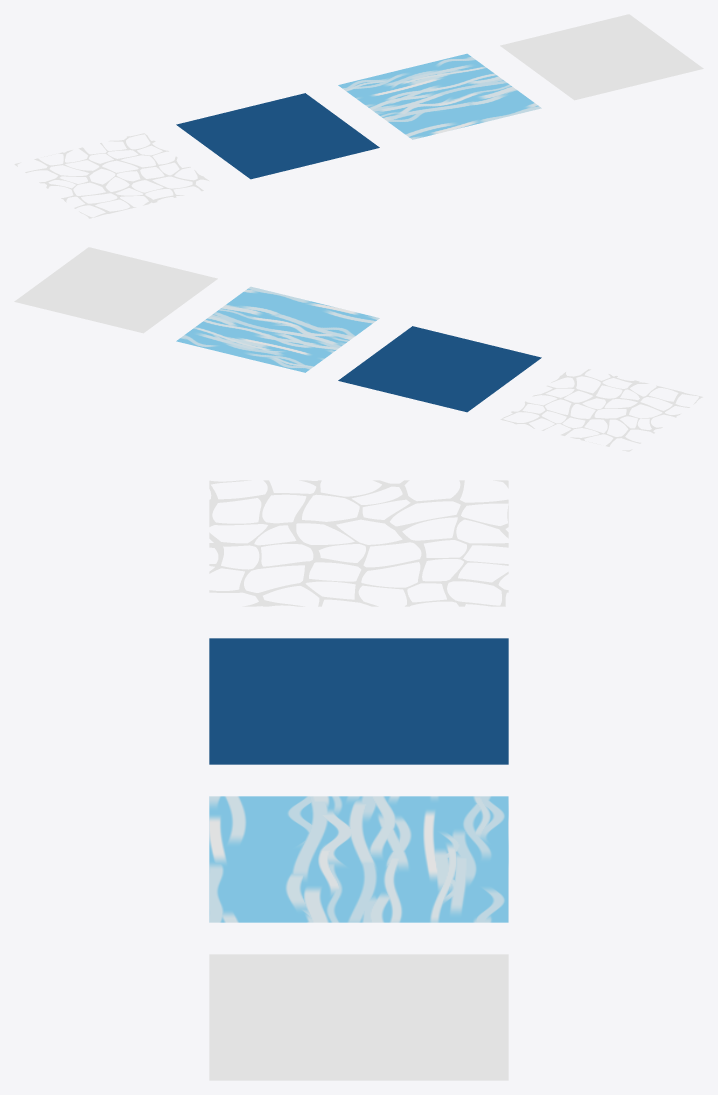
Rendered from texturas_agua.fbx.
3 views of the same model, one above another, from view 1: azimuth 30°, elevation 25°; view 2: azimuth 150°, elevation 25°; view 3: azimuth 270°, elevation 25° (orthographic). The views are drawn at different scales.
Parts seen in each view (by area): view 1: TX__agua_sombra, TX__cachoeira, TX__espuma, TX__agua_linhas; view 2: TX__agua_sombra, TX__cachoeira, TX__espuma, TX__agua_linhas; view 3: TX__agua_sombra, TX__cachoeira, TX__espuma, TX__agua_linhas.
Boxes of the visible parts, x1,y1,x2,y2 form: TX__agua_sombra: (176,93,379,179); TX__cachoeira: (338,53,541,139); TX__espuma: (500,14,703,100); TX__agua_linhas: (14,133,209,218); TX__agua_sombra: (338,326,541,412); TX__cachoeira: (176,286,379,372); TX__espuma: (14,247,217,333); TX__agua_linhas: (500,369,702,451); TX__agua_sombra: (209,638,508,764); TX__cachoeira: (209,796,508,922); TX__espuma: (209,954,508,1080); TX__agua_linhas: (209,480,508,606).
Size of the model in its own units: 19 by 6.52e-07 by 4.
4 materials, 4 textured.
